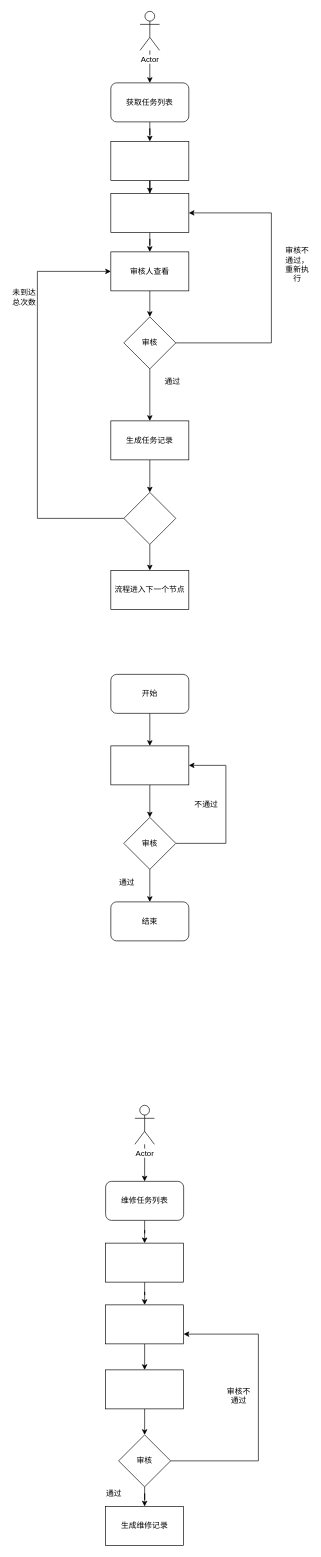
This 321x1557 diagram has some shape labels left out. Here are the shapes that lost their labels. From the top down, the centre of each, then its label:
At [149,160]: "打开任务详情".
At [149,212]: "执行任务，反馈记录".
At [149,518]: "判断是否达到执行总次数".
At [149,765]: "执行上报".
At [144,1262]: "打开维修任务".
At [144,1324]: "查看要维修的设备".
At [144,1389]: "维修完成，上报".
